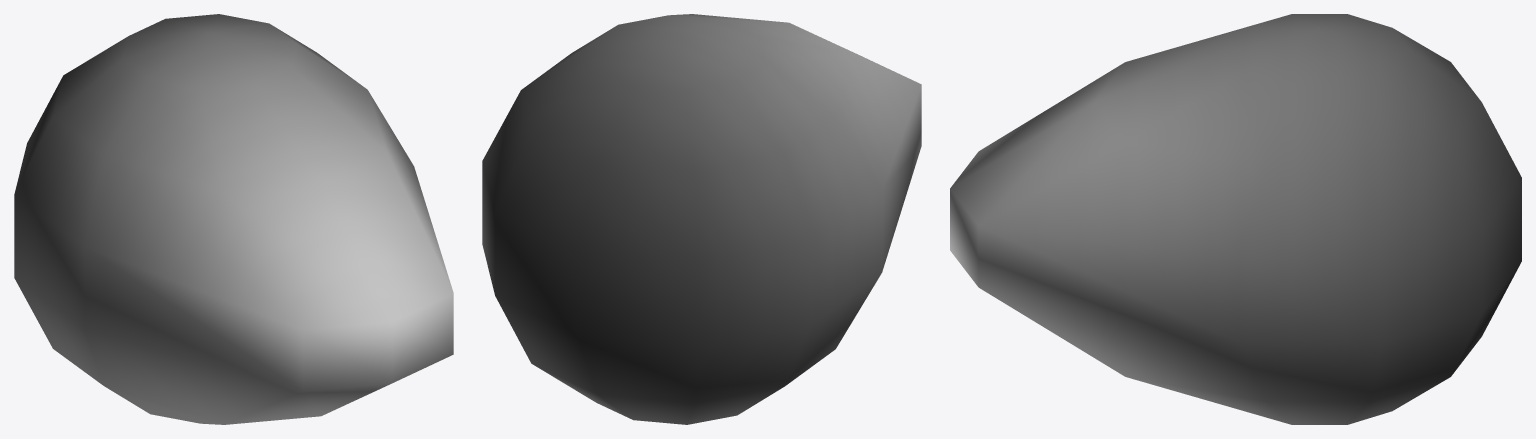
Rendered from dragons_fireball.fbx.
The picture shows the model from 3 angles, left to right: view 1: azimuth 30°, elevation 25°; view 2: azimuth 150°, elevation 25°; view 3: azimuth 270°, elevation 25°; orthographic projection.
Visible parts, largest first — view 1: dr_fireball; view 2: dr_fireball; view 3: dr_fireball.
Boxes of the visible parts, left/top/right/bottom form: dr_fireball: left=14, top=14, right=453, bottom=424; dr_fireball: left=482, top=14, right=921, bottom=424; dr_fireball: left=950, top=14, right=1521, bottom=424.
Bounding box in the file's own units: 0.4421 × 0.4768 × 0.6574.
